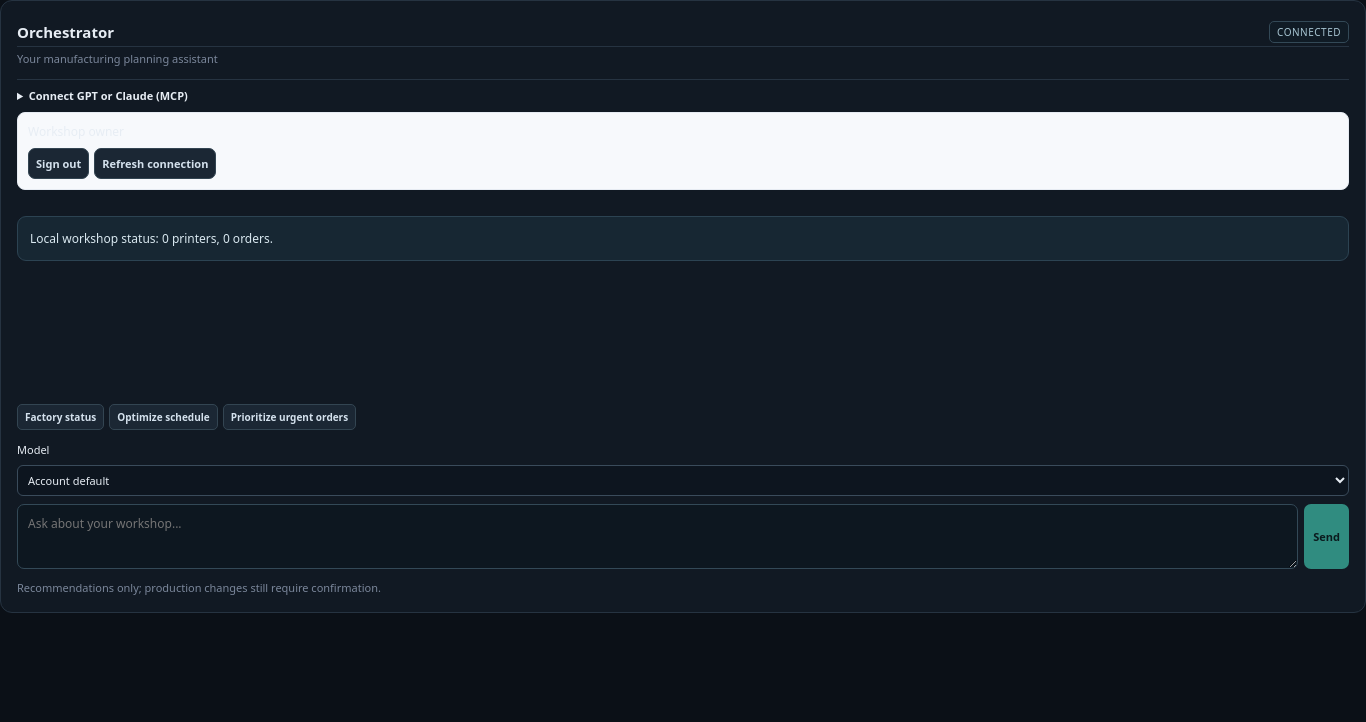
Test case: shows the local MCP URL and read-only connection guidance on demand
This screenshot has width=1366, height=722.
expect the field labelled "MCP server URL" is not shown: met
Click the heading "Connect GPT or Claude (MCP)".
click(108, 95)  # box [29, 88, 188, 102]
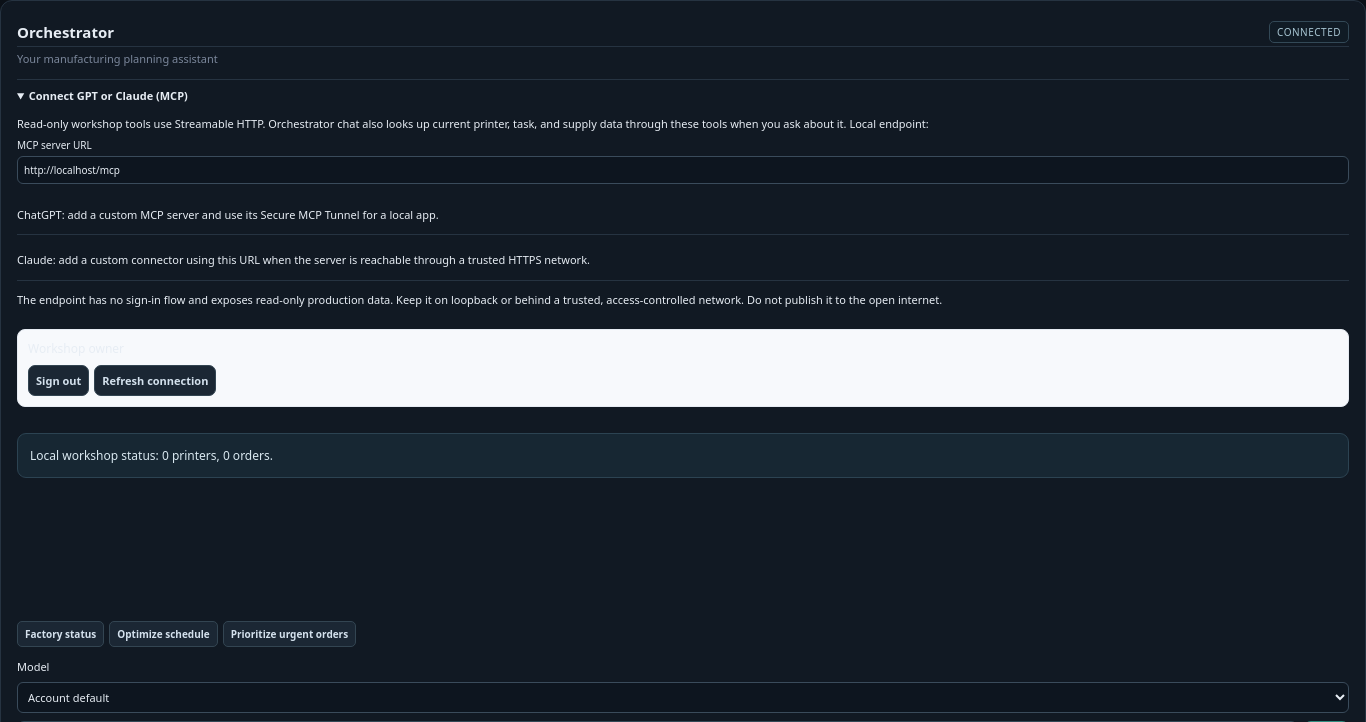
expect the text "Read-only workshop tools use Streamable HTTP. Orchestrator chat also looks up current printer, task, and supply data thr" is shown: met, box [17, 116, 929, 130]
expect the text "The endpoint has no sign-in flow and exposes read-only production data. Keep it on loopback or behind a trusted, access-" is shown: met, box [17, 292, 942, 307]
